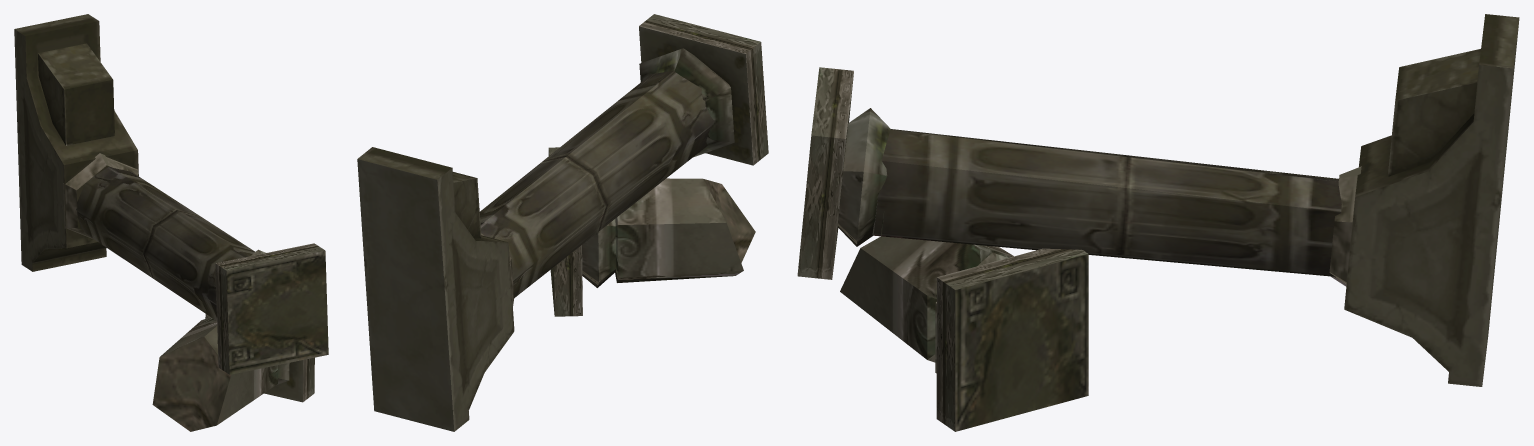
3 views of the same model, side by side, from view 1: azimuth 30°, elevation 25°; view 2: azimuth 150°, elevation 25°; view 3: azimuth 270°, elevation 25° (orthographic). The views are drawn at different scales.
Visible parts, largest first — view 1: fx_wj2; view 2: fx_wj2; view 3: fx_wj2.
Part boxes in pixels (x1=…): fx_wj2: x1=14, y1=14, x2=328, y2=431; fx_wj2: x1=357, y1=14, x2=768, y2=431; fx_wj2: x1=797, y1=14, x2=1519, y2=431.
Bounding box in the file's own units: 196 × 275 × 519.
Materials: 1 (1 with a texture image).
